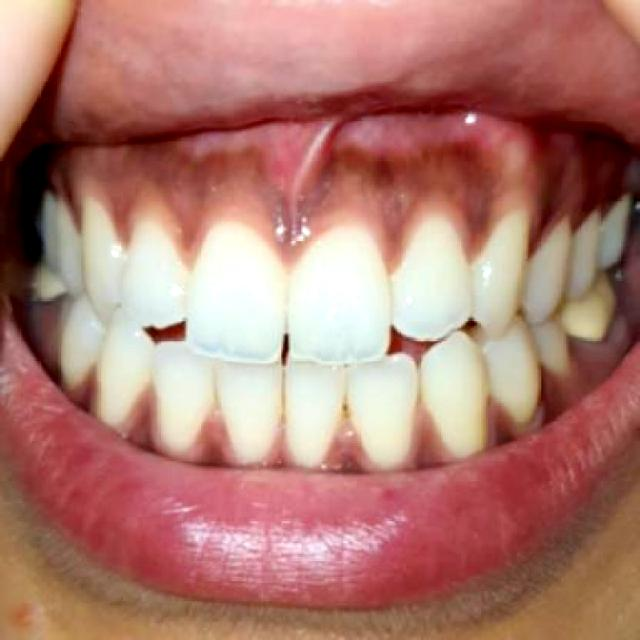Plaque: (39, 132, 624, 271), (488, 296, 637, 451), (258, 407, 458, 470), (125, 386, 244, 472), (22, 297, 77, 391), (69, 357, 102, 419)
